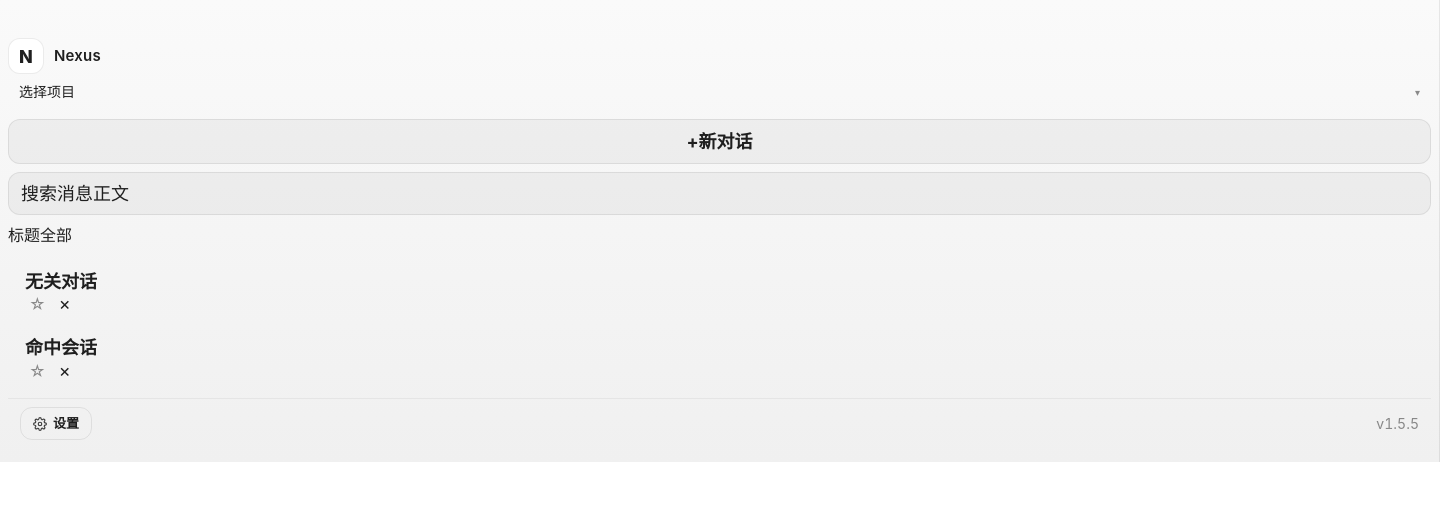
Test: Sidebar 搜索作用域(Round 3 Task 3.5 双层匹配) › 全部模式:调 searchMessages,命中 session 提前 + 高亮标记
The image size is (1440, 506).
Type "kubernetes" into the search field with placeholder "搜索消息正文" at [720, 194], box x1=8 y1=172 x2=1431 y2=215
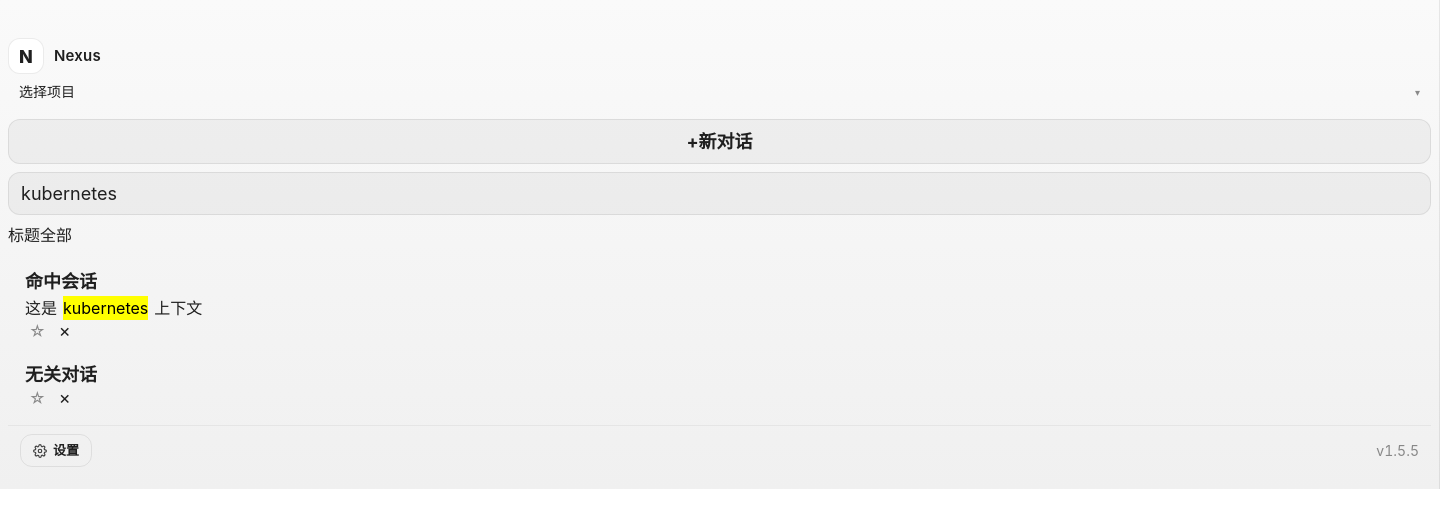
expect the number of buttons with class "task-item" is 2: met, box x1=25 y1=271 x2=202 y2=342; x1=25 y1=364 x2=97 y2=409
expect the text "kubernetes" is shown: met, box x1=63 y1=296 x2=148 y2=320
